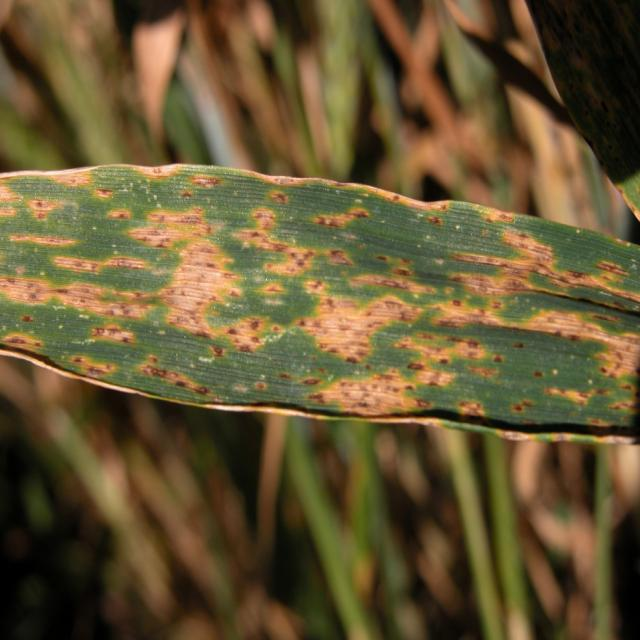wheat-septoria: (0, 164, 640, 446)
